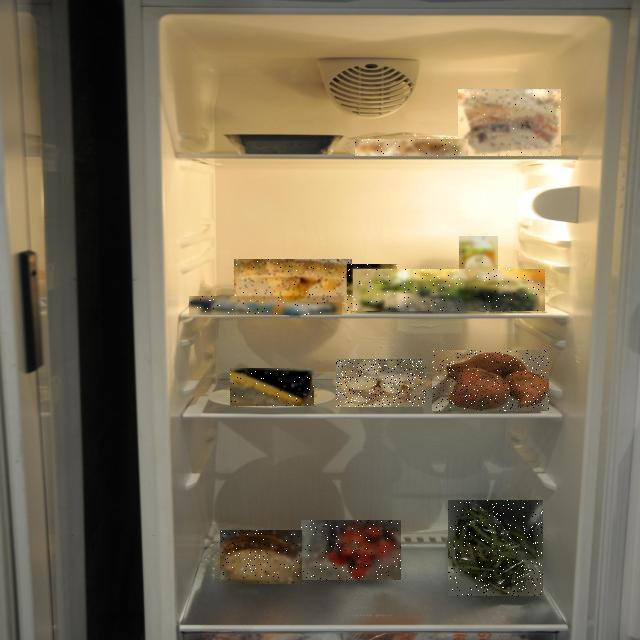cheese: (73, 204, 387, 610)
mushroom: (124, 204, 550, 610)
potato: (58, 151, 410, 453)
